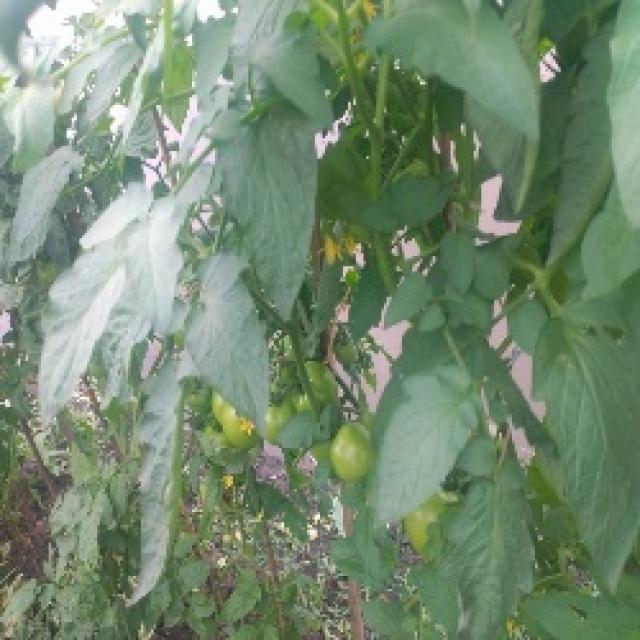tomato: (325, 428, 376, 493), (196, 405, 264, 450), (406, 504, 457, 556), (305, 353, 347, 401), (269, 393, 315, 431)
